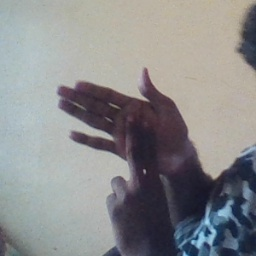N: (52, 63, 183, 222)
